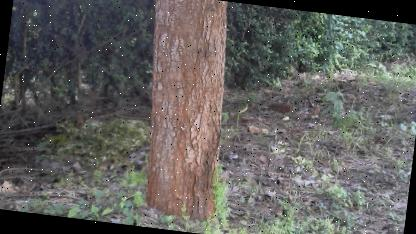tree: (123, 0, 242, 232)
